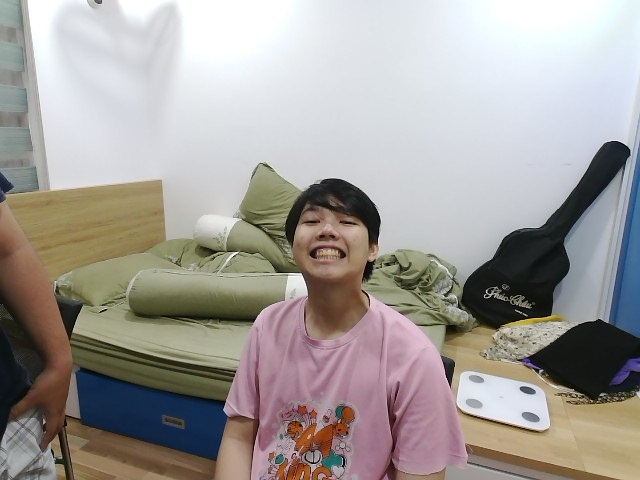face: (284, 177, 380, 280)
